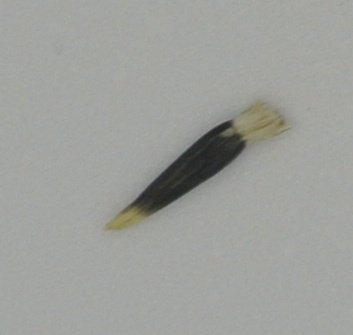เมล็ดดีติดกัน: (103, 94, 293, 233)
